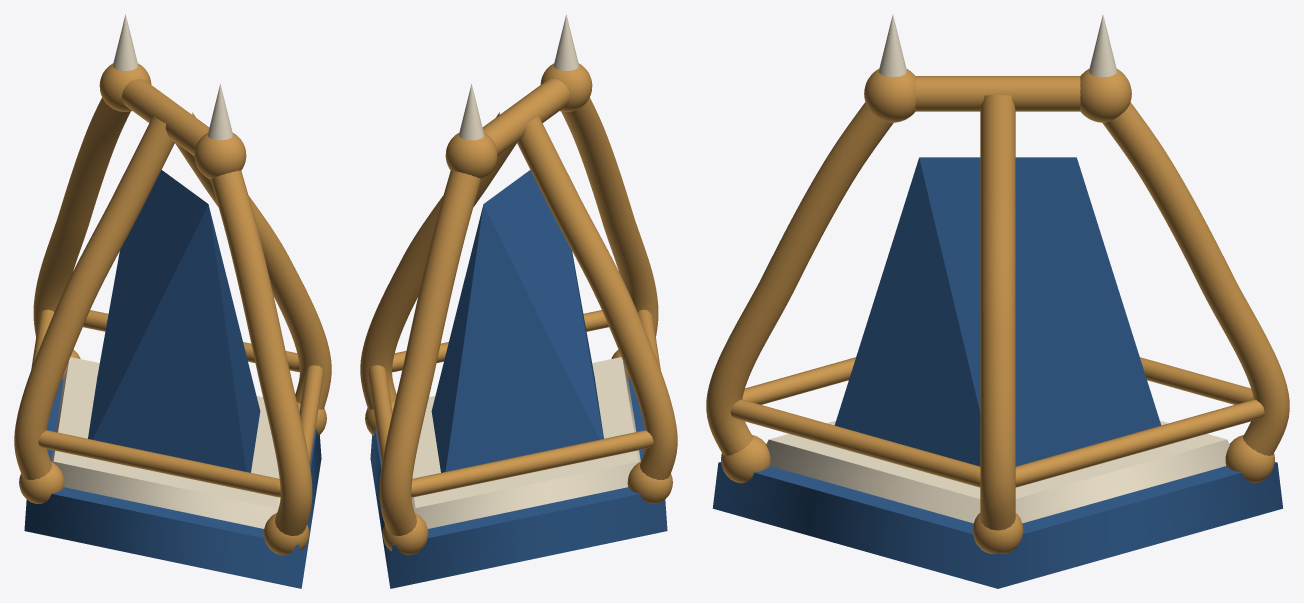
The model's file is vanguard_blue.glb.
The picture shows the model from 3 angles, left to right: view 1: azimuth 30°, elevation 25°; view 2: azimuth 150°, elevation 25°; view 3: azimuth 270°, elevation 25°; orthographic projection. The views are drawn at different scales.
Parts seen in each view (by area): view 1: core, base, rib_left, rib_front, base_step, girdle, rib_back, rib_right, ridge, apex_cap_1, apex_cap_2, rib_left_foot (+3 smaller); view 2: core, base, rib_left, rib_back, base_step, girdle, rib_front, rib_right, ridge, apex_cap_2, apex_cap_1, rib_left_foot (+3 smaller); view 3: core, base, base_step, rib_right, girdle, rib_back, rib_front, ridge, apex_cap_1, apex_cap_2, rib_front_foot, rib_back_foot (+3 smaller).
Part boxes in pixels (x1=…): core: x1=88, y1=170, x2=260, y2=472; base: x1=24, y1=379, x2=321, y2=588; rib_left: x1=14, y1=115, x2=174, y2=479; rib_front: x1=210, y1=170, x2=312, y2=535; base_step: x1=51, y1=357, x2=280, y2=528; girdle: x1=31, y1=309, x2=323, y2=497; rib_back: x1=33, y1=97, x2=130, y2=336; rib_right: x1=175, y1=112, x2=331, y2=409; ridge: x1=122, y1=78, x2=209, y2=155; apex_cap_1: x1=194, y1=133, x2=246, y2=179; apex_cap_2: x1=99, y1=63, x2=151, y2=111; rib_left_foot: x1=19, y1=461, x2=64, y2=503; core: x1=431, y1=170, x2=603, y2=472; base: x1=370, y1=379, x2=667, y2=588; rib_left: x1=517, y1=115, x2=677, y2=479; rib_back: x1=379, y1=170, x2=481, y2=535; base_step: x1=411, y1=357, x2=640, y2=528; girdle: x1=368, y1=309, x2=660, y2=497; rib_front: x1=561, y1=97, x2=658, y2=336; rib_right: x1=360, y1=112, x2=516, y2=409; ridge: x1=482, y1=78, x2=569, y2=155; apex_cap_2: x1=445, y1=133, x2=497, y2=179; apex_cap_1: x1=540, y1=63, x2=592, y2=111; rib_left_foot: x1=627, y1=461, x2=672, y2=503; core: x1=834, y1=157, x2=1161, y2=466; base: x1=712, y1=462, x2=1283, y2=588; base_step: x1=766, y1=420, x2=1229, y2=523; rib_right: x1=980, y1=95, x2=1015, y2=530; girdle: x1=730, y1=357, x2=1264, y2=487; rib_back: x1=1102, y1=102, x2=1289, y2=455; rib_front: x1=706, y1=102, x2=893, y2=455; ridge: x1=915, y1=76, x2=1080, y2=111; apex_cap_1: x1=864, y1=69, x2=915, y2=122; apex_cap_2: x1=1080, y1=69, x2=1131, y2=122; rib_front_foot: x1=721, y1=435, x2=770, y2=483; rib_back_foot: x1=1225, y1=435, x2=1274, y2=483.
Bounding box in the file's own units: 0.0237 × 0.0322 × 0.0344.
